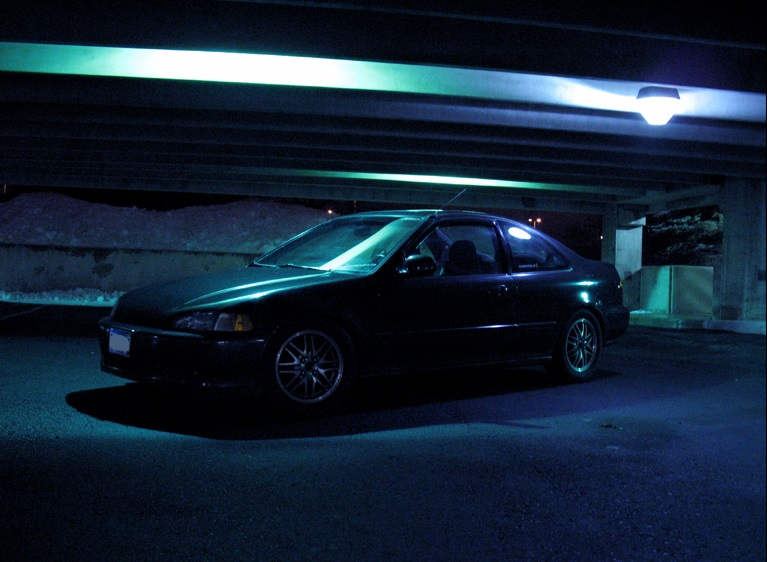car: (84, 194, 640, 433)
